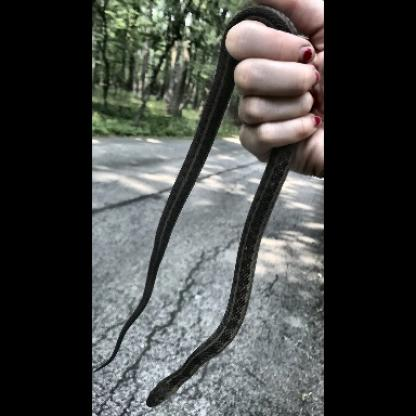Snake: (111, 184, 279, 408)
